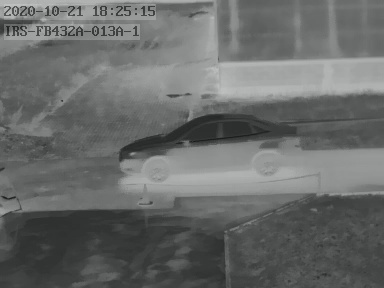vehicle: (114, 115, 302, 182)
